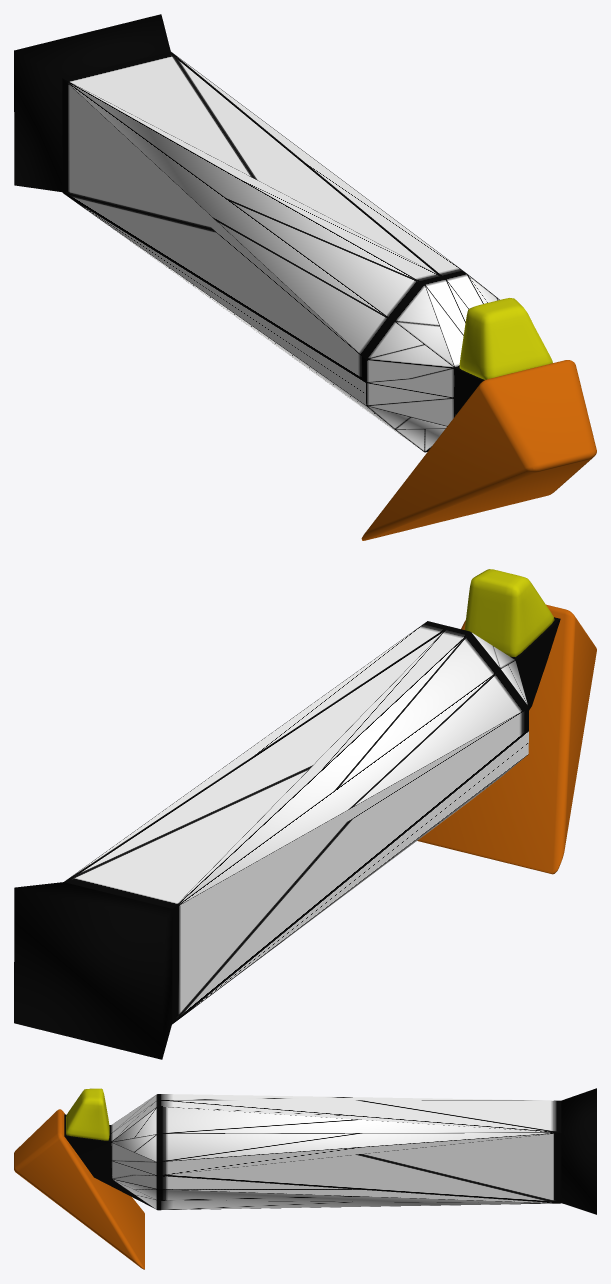
The model's file is sentinel_classic.obj.
3 renders of one model, top to bottom at view 1: azimuth 30°, elevation 25°; view 2: azimuth 150°, elevation 25°; view 3: azimuth 270°, elevation 25°, orthographic. The views are drawn at different scales.
Visible parts, largest first — view 1: Cube, Cylinder.001_Cylinder.002, Cube.002_Cube.008, Cube.003_Cube.010; view 2: Cube, Cube.002_Cube.008, Cylinder.001_Cylinder.002, Cube.003_Cube.010; view 3: Cube, Cylinder.001_Cylinder.002, Cube.002_Cube.008, Cube.003_Cube.010.
Part boxes in pixels (x1,y1,x2,y2): Cube: (62, 51, 499, 452); Cylinder.001_Cylinder.002: (361, 360, 596, 540); Cube.002_Cube.008: (14, 14, 552, 379); Cube.003_Cube.010: (425, 367, 484, 452); Cube: (64, 621, 528, 1024); Cube.002_Cube.008: (14, 569, 554, 1059); Cylinder.001_Cylinder.002: (417, 604, 596, 874); Cube.003_Cube.010: (510, 617, 560, 710); Cube: (111, 1094, 561, 1210); Cylinder.001_Cylinder.002: (14, 1109, 144, 1269); Cube.002_Cube.008: (66, 1088, 596, 1214); Cube.003_Cube.010: (64, 1114, 156, 1209).
Bounding box in the file's own units: 0.415 × 0.4996 × 1.77.
